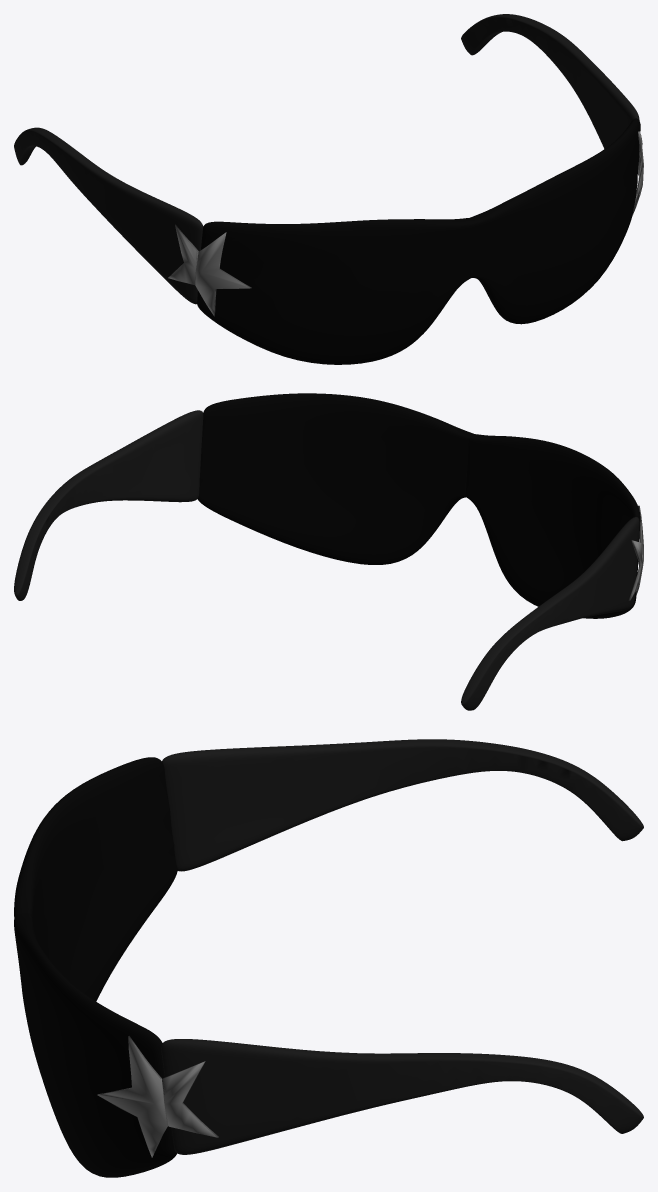
File: prada_fixed_origin_compressed.glb
The picture shows the model from 3 angles, top to bottom: view 1: azimuth 30°, elevation 25°; view 2: azimuth 150°, elevation 25°; view 3: azimuth 270°, elevation 25°; orthographic projection. The views are drawn at different scales.
Visible parts, largest first — view 1: glasses_0; view 2: glasses_0; view 3: glasses_0.
Boxes of the visible parts, <box> form: glasses_0: <box>14,14,643,364</box>; glasses_0: <box>14,393,643,710</box>; glasses_0: <box>14,739,643,1177</box>.
Bounding box in the file's own units: 2.95 × 0.8869 × 2.45.
4 materials, 4 textured.
